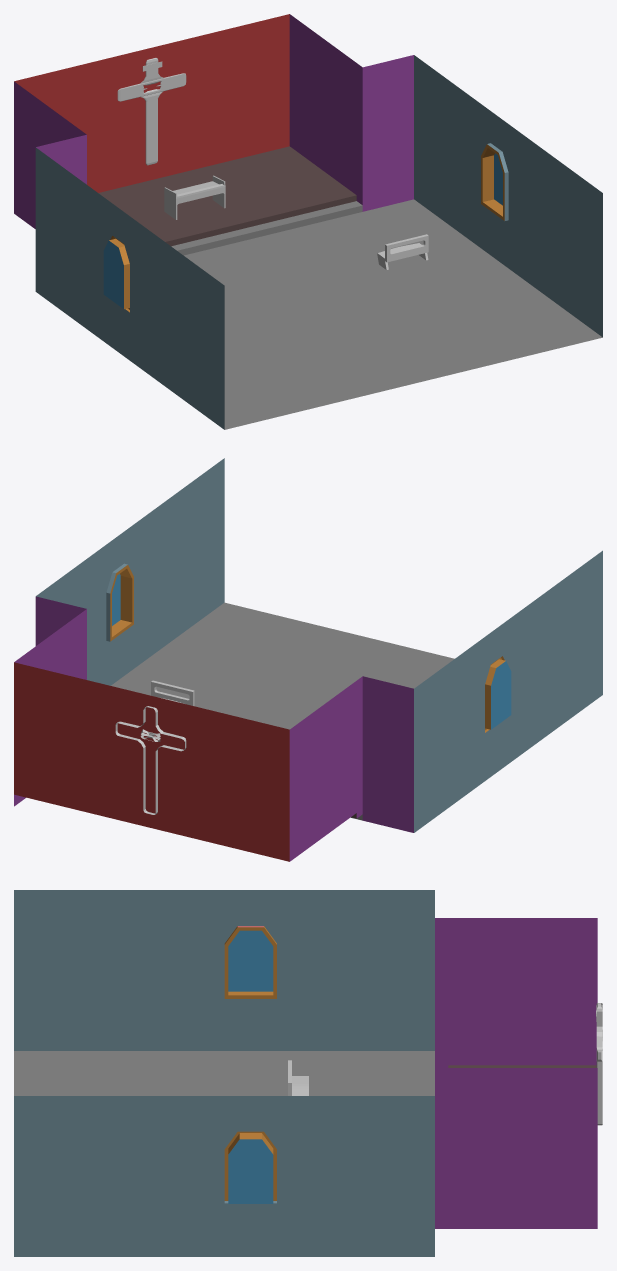
The model's file is 01_Cuirch.fbx.
3 renders of one model, top to bottom at view 1: azimuth 30°, elevation 25°; view 2: azimuth 150°, elevation 25°; view 3: azimuth 270°, elevation 25°, orthographic. The views are drawn at different scales.
Visible parts, largest first — view 1: Plane, Cube.009, Cube, Cube.001; view 2: Plane, Cube.009, Cube.001; view 3: Plane, Cube.009.
Part boxes in pixels (x1,y1,x2,y2): Plane: (14,14,602,429); Cube.009: (117,58,186,165); Cube: (164,175,225,219); Cube.001: (377,234,428,269); Plane: (14,458,602,861); Cube.009: (115,706,186,814); Cube.001: (151,680,194,706); Plane: (14,890,597,1256); Cube.009: (596,1003,602,1125).
Size of the model in its own units: 2899 by 1036 by 3398.
